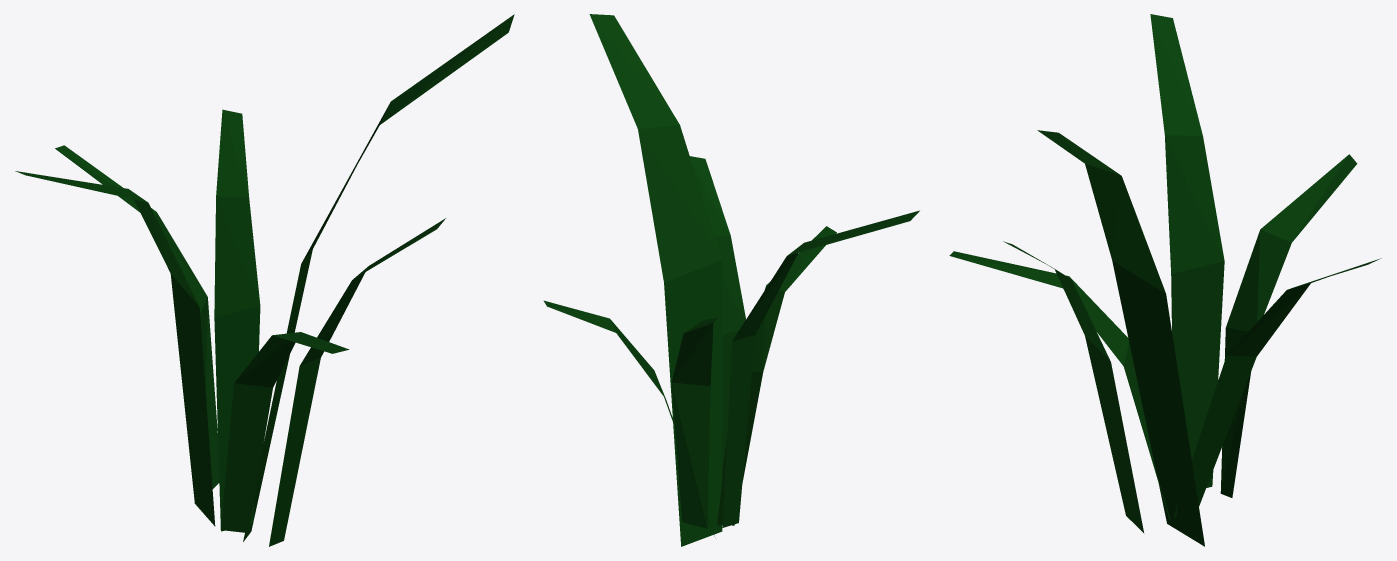
The model's file is Grass Mesh yup.FBX.
3 renders of one model, left to right at view 1: azimuth 30°, elevation 25°; view 2: azimuth 150°, elevation 25°; view 3: azimuth 270°, elevation 25°, orthographic. The views are drawn at different scales.
Visible parts, largest first — view 1: Plane003; view 2: Plane003; view 3: Plane003.
Part boxes in pixels (<box>): Plane003: <box>15,14,514,546</box>; Plane003: <box>543,14,919,546</box>; Plane003: <box>949,14,1381,546</box>.
Bounding box in the file's own units: 32.07 × 28.89 × 36.79.
